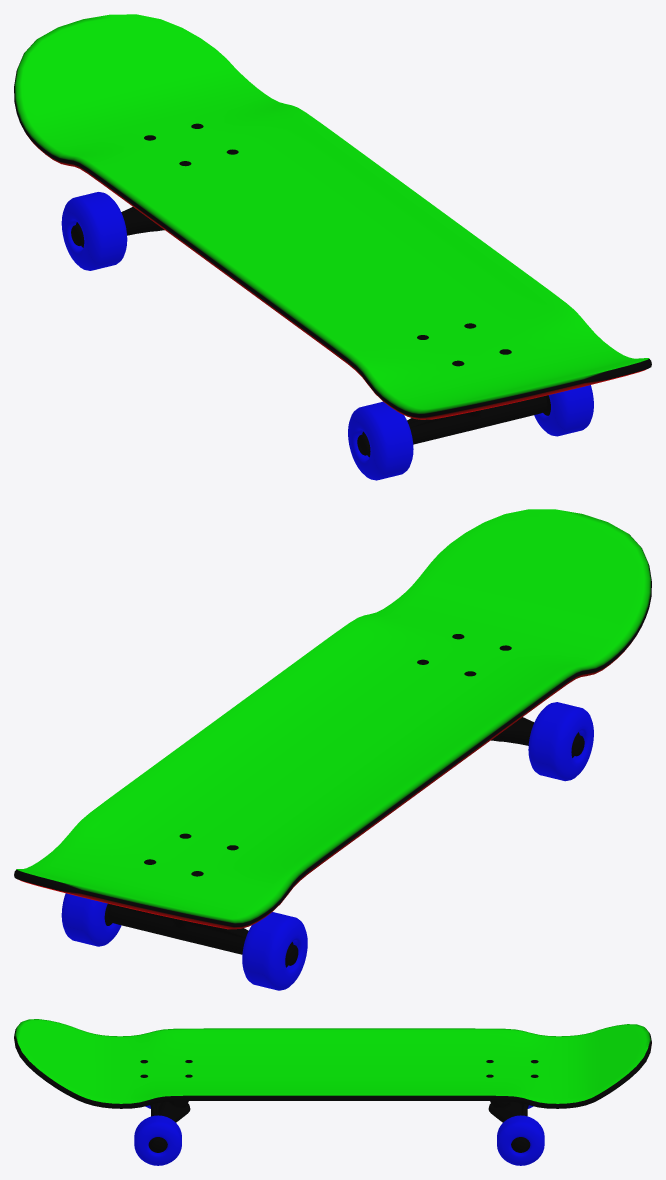
File: skateboard.glb
3 renders of one model, top to bottom at view 1: azimuth 30°, elevation 25°; view 2: azimuth 150°, elevation 25°; view 3: azimuth 270°, elevation 25°, orthographic. The views are drawn at different scales.
Parts seen in each view (by area): view 1: Skateboard; view 2: Skateboard; view 3: Skateboard.
Part boxes in pixels (box(x1,y1,x2,y2)): Skateboard: box(14, 14, 651, 480); Skateboard: box(14, 509, 651, 990); Skateboard: box(14, 1019, 651, 1165).
Size of the model in its own units: 0.2075 by 0.1411 by 0.8158.
